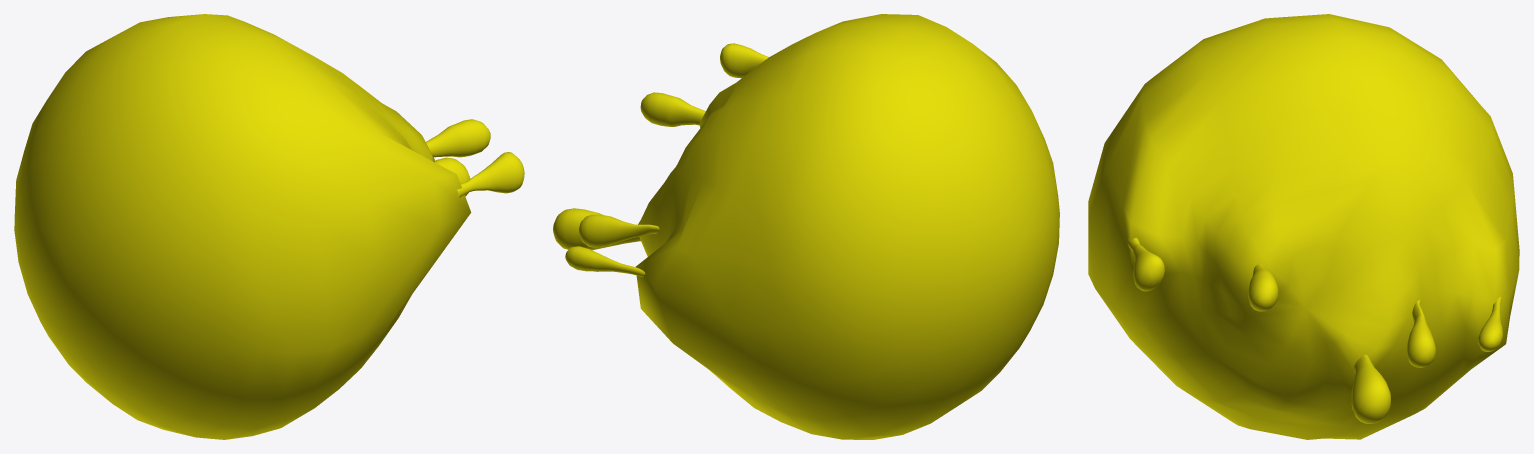
The model's file is bullet_yellow.fbx.
3 renders of one model, left to right at view 1: azimuth 30°, elevation 25°; view 2: azimuth 150°, elevation 25°; view 3: azimuth 270°, elevation 25°, orthographic. The views are drawn at different scales.
Parts seen in each view (by area): view 1: pasted__pasted__pasted__polySurface21; view 2: pasted__pasted__pasted__polySurface21; view 3: pasted__pasted__pasted__polySurface21.
Boxes of the visible parts, left/top/right/bottom form: pasted__pasted__pasted__polySurface21: left=14, top=14, right=524, bottom=439; pasted__pasted__pasted__polySurface21: left=553, top=14, right=1059, bottom=439; pasted__pasted__pasted__polySurface21: left=1088, top=14, right=1519, bottom=439.
Size of the model in its own units: 2.26 by 1.88 by 1.87.
